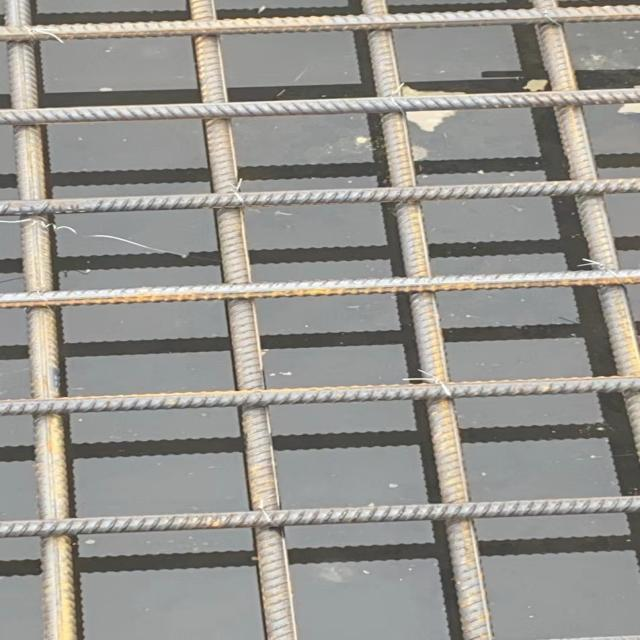ribbed bar: (358, 0, 493, 639), (186, 0, 301, 639), (4, 0, 82, 639), (530, 0, 639, 457), (0, 495, 639, 537), (0, 268, 639, 309), (0, 375, 639, 415), (0, 176, 639, 215), (0, 4, 639, 42), (0, 87, 639, 124)
